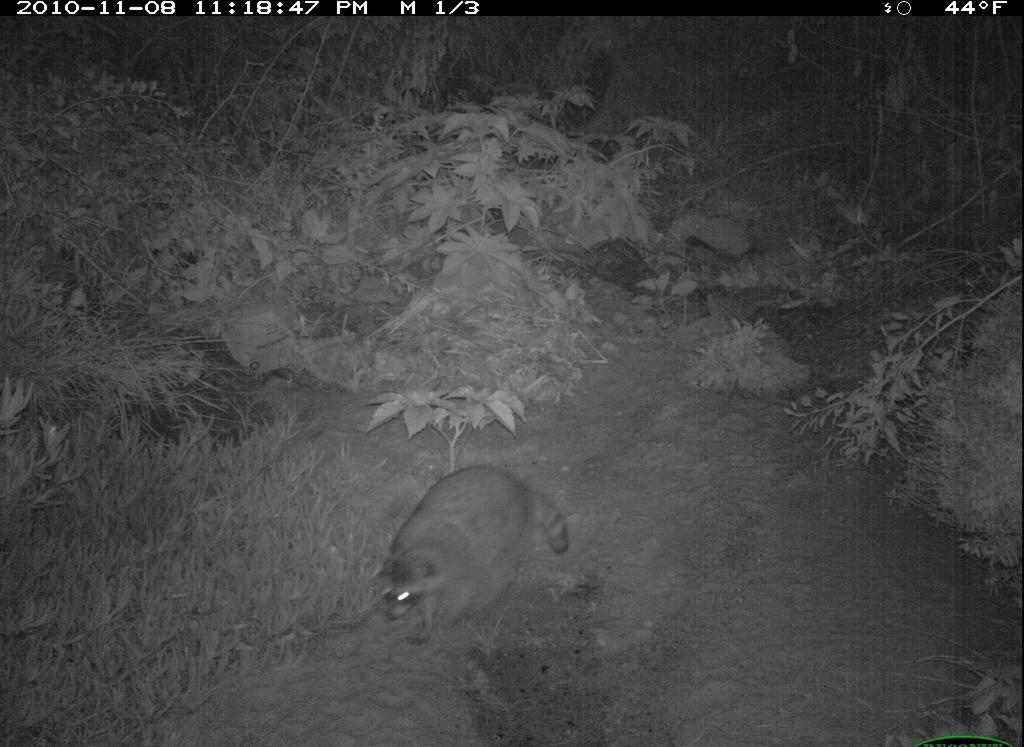raccoon: (365, 460, 587, 649)
